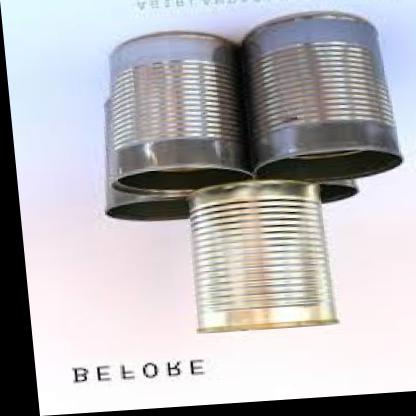Metal: (40, 1, 416, 372)
